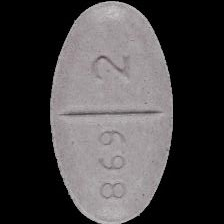0555-0869: (0, 0, 224, 224)
